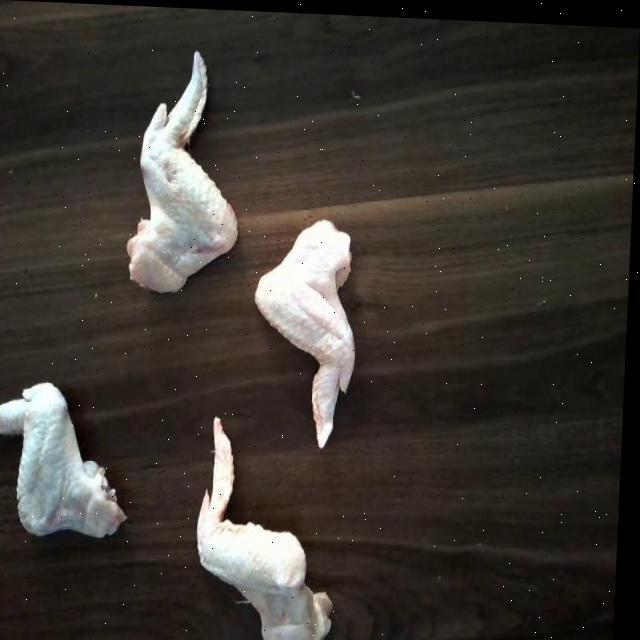wing: (188, 418, 351, 640), (128, 47, 252, 301), (250, 218, 376, 437), (0, 374, 132, 542)
